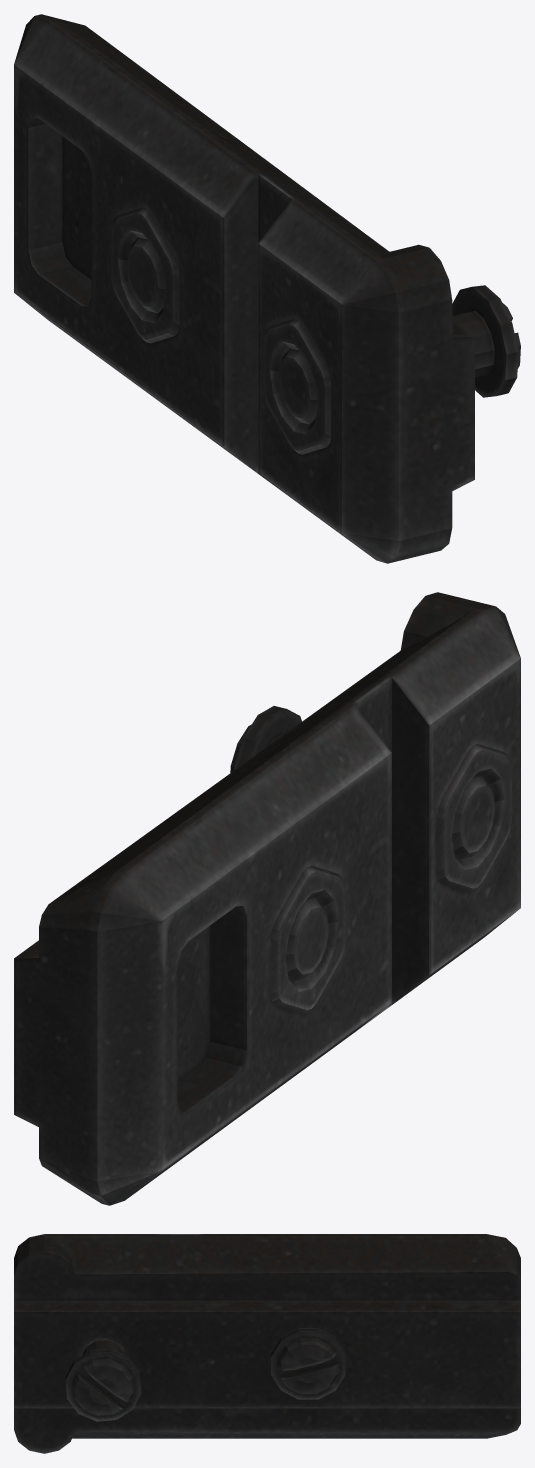
3 renders of one model, top to bottom at view 1: azimuth 30°, elevation 25°; view 2: azimuth 150°, elevation 25°; view 3: azimuth 270°, elevation 25°, orthographic. The views are drawn at different scales.
Parts seen in each view (by area): view 1: TW_62ed189fb3608410ef5a2bfc_PZ_Import; view 2: TW_62ed189fb3608410ef5a2bfc_PZ_Import; view 3: TW_62ed189fb3608410ef5a2bfc_PZ_Import.
Part boxes in pixels (x1,y1,x2,y2): TW_62ed189fb3608410ef5a2bfc_PZ_Import: (14, 14, 520, 563); TW_62ed189fb3608410ef5a2bfc_PZ_Import: (14, 592, 520, 1205); TW_62ed189fb3608410ef5a2bfc_PZ_Import: (14, 1234, 520, 1453).
Size of the model in its own units: 0.00902 by 0.0279 by 0.0123.
Materials: 1 (1 with a texture image).
